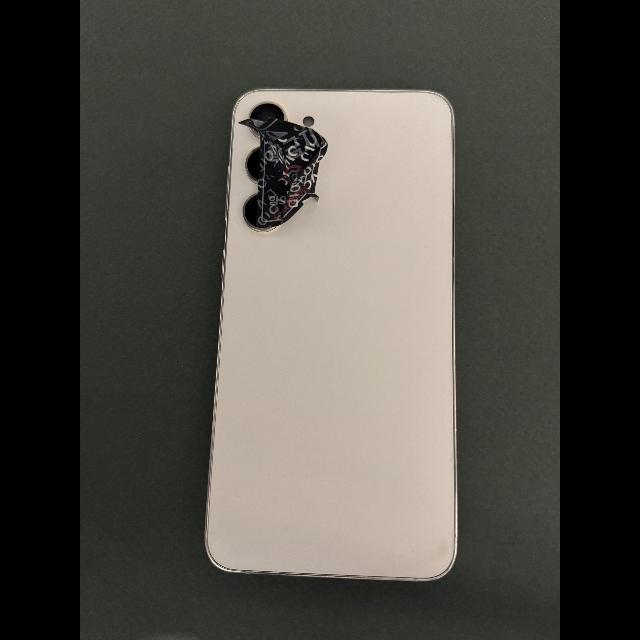lens: (244, 193, 276, 231), (250, 103, 286, 120), (246, 148, 260, 186)
phone: (205, 89, 458, 581)
sticker: (238, 117, 328, 227)
